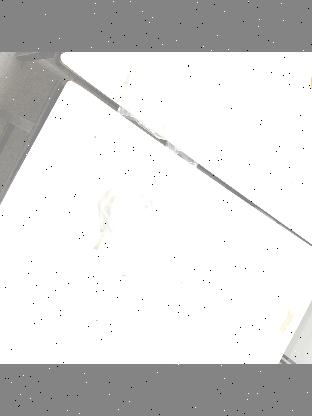Others: (113, 62, 211, 168), (90, 164, 178, 258), (66, 260, 150, 340)
